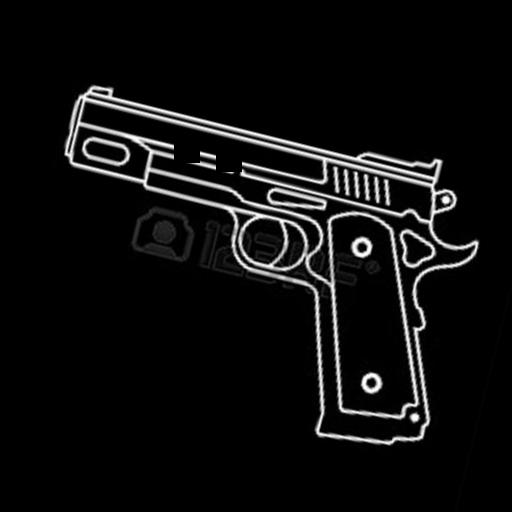Handgun: (13, 72, 494, 465)
